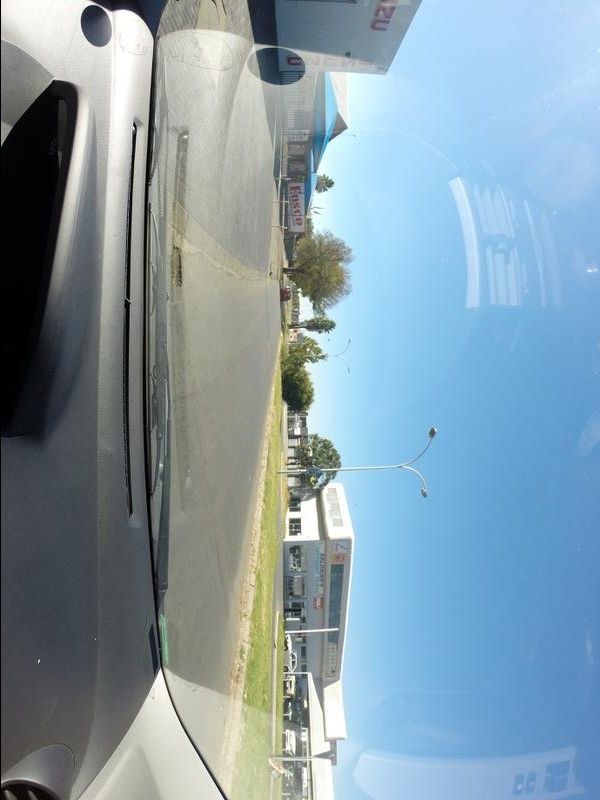pothole: (167, 245, 190, 299)
